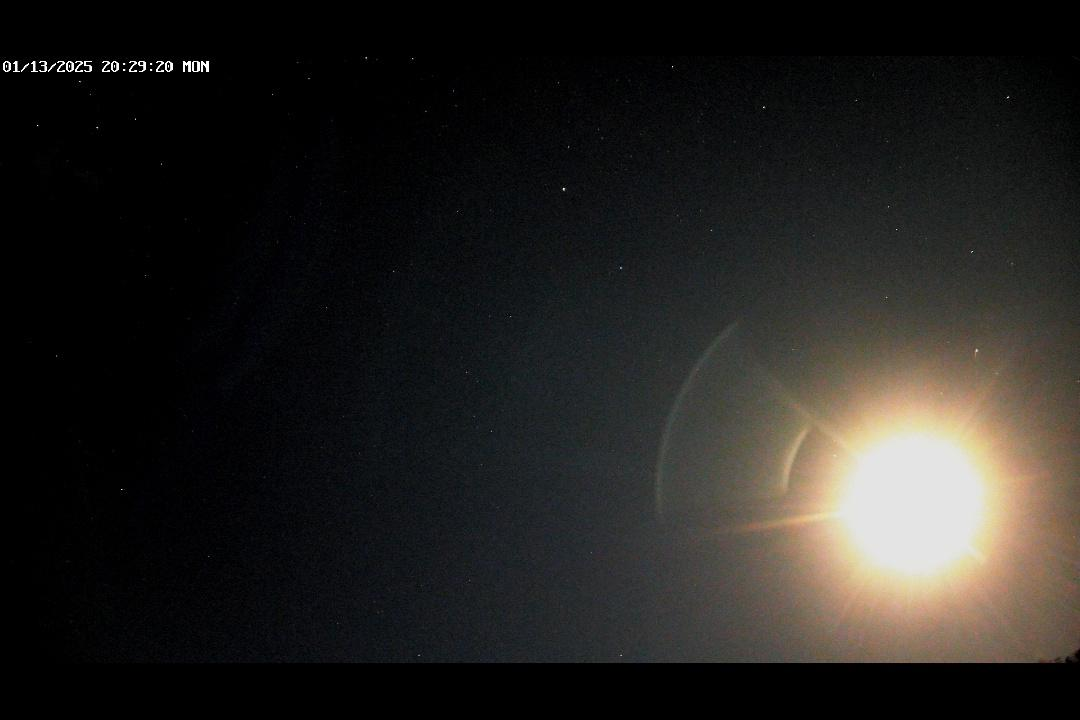Plane: (965, 339, 989, 367)
